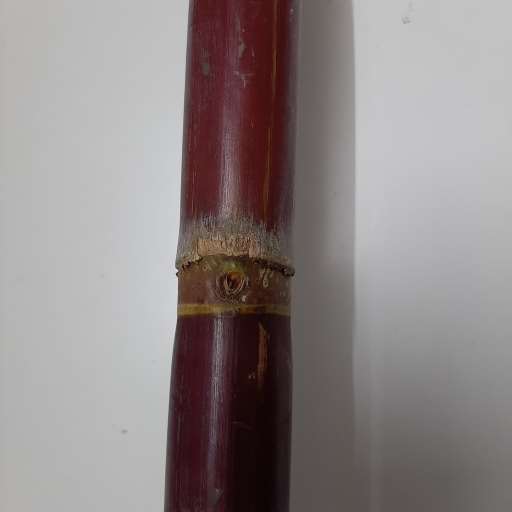Damage_Bud: (220, 268, 244, 297)
